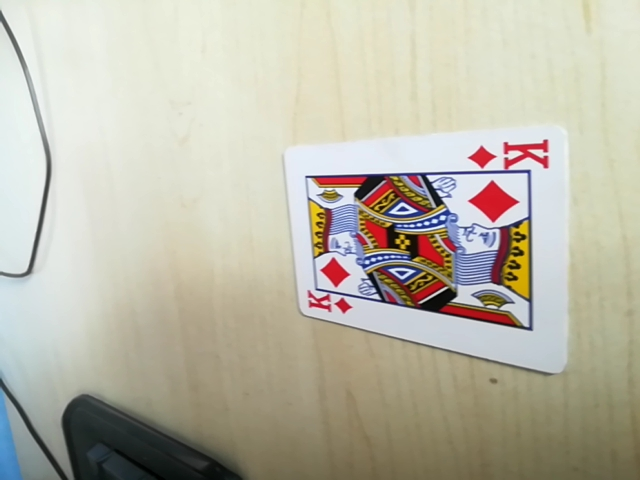fk k: (469, 135, 550, 173), (300, 289, 351, 319)
